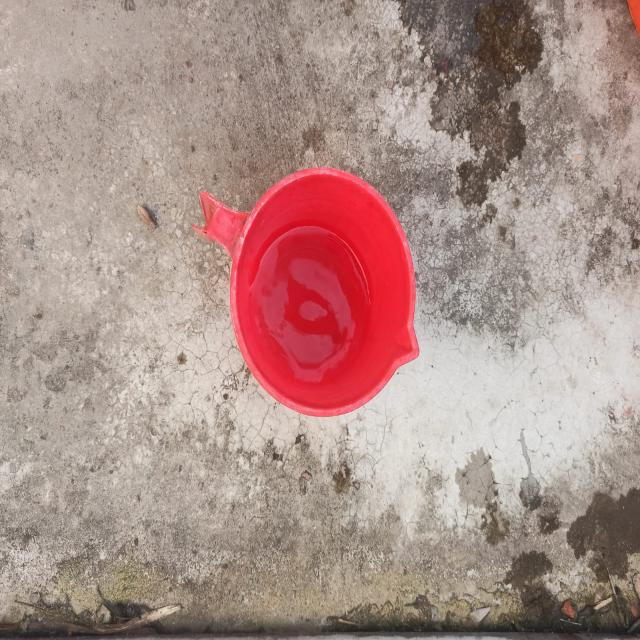Breeding Place: (186, 131, 440, 434)
